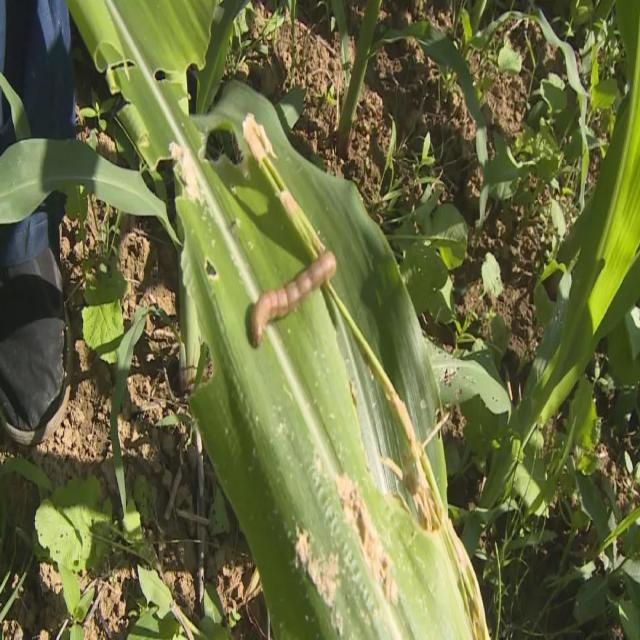pest: (252, 251, 338, 347)
